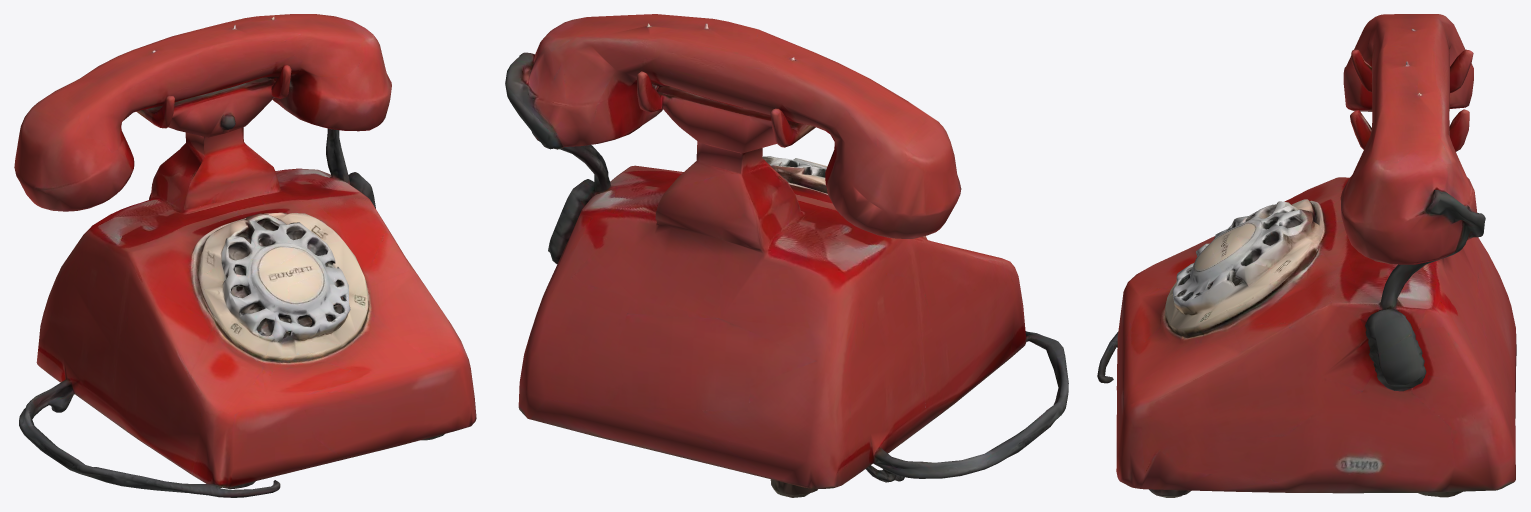
3 renders of one model, left to right at view 1: azimuth 30°, elevation 25°; view 2: azimuth 150°, elevation 25°; view 3: azimuth 270°, elevation 25°, orthographic. The views are drawn at different scales.
Bounding box in the file's own units: 2 × 1.76 × 1.73.
Materials: 1 (1 with a texture image).
